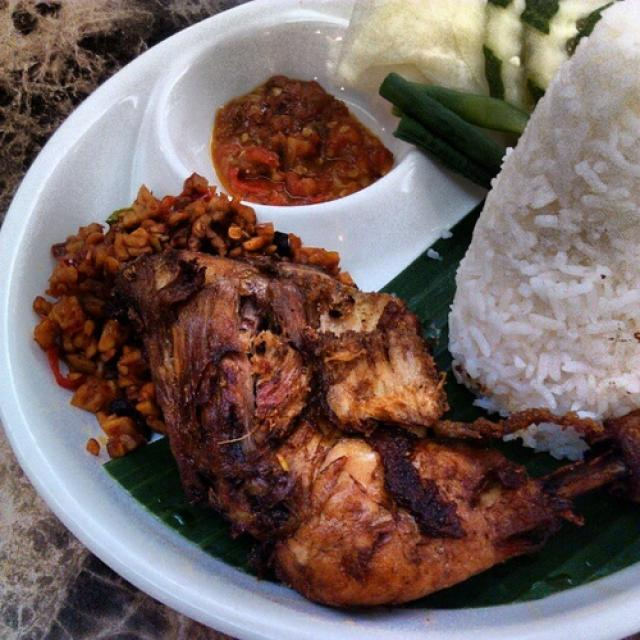鸡肉料理 含炸鸡: (32, 45, 631, 613)
